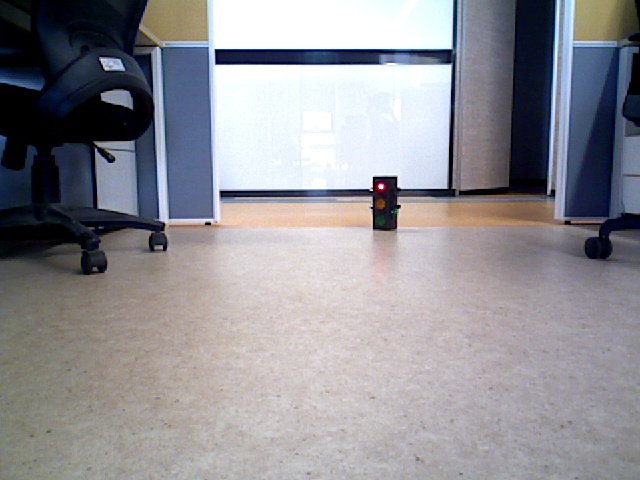red: (372, 176, 394, 230)
